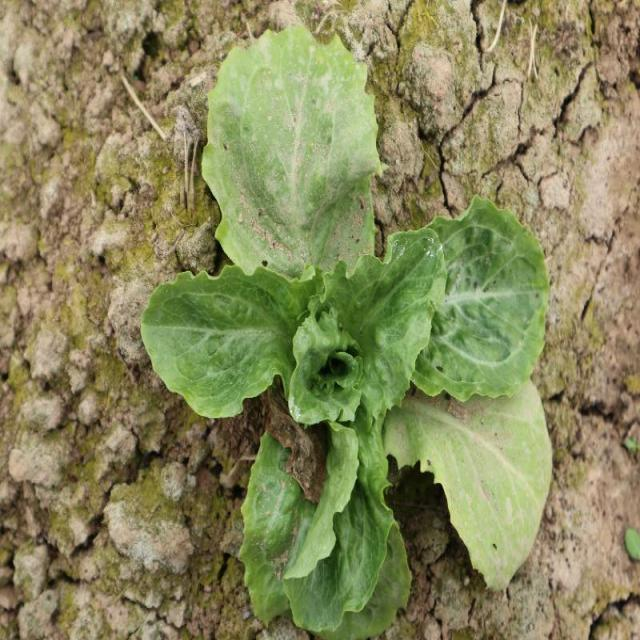crop: (140, 21, 555, 638)
